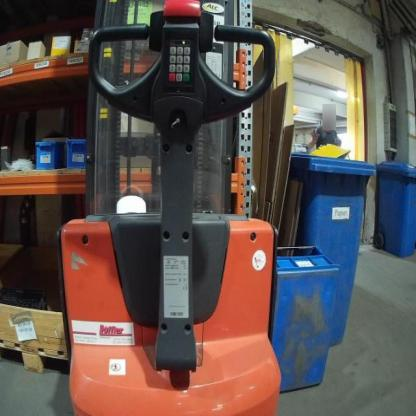pallet: (1, 336, 72, 379)
pallet_truck: (58, 0, 284, 416)
small_load_carrier: (34, 138, 63, 169), (64, 135, 87, 169)
